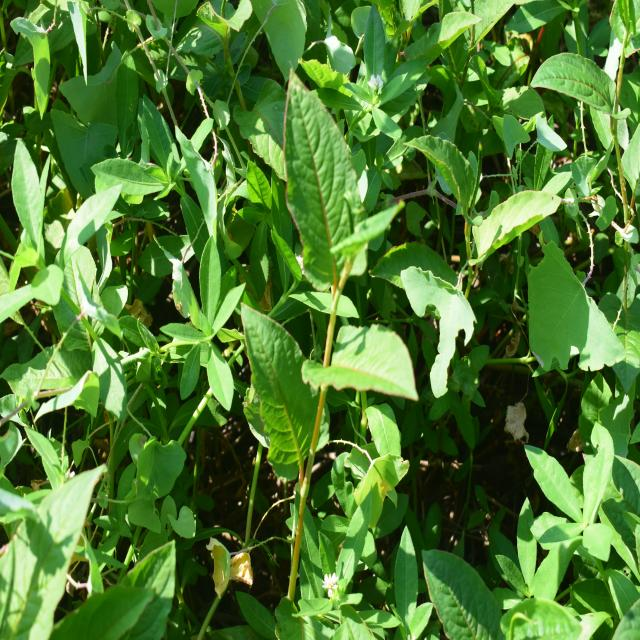Chinese_knotweed: (250, 87, 430, 440)
